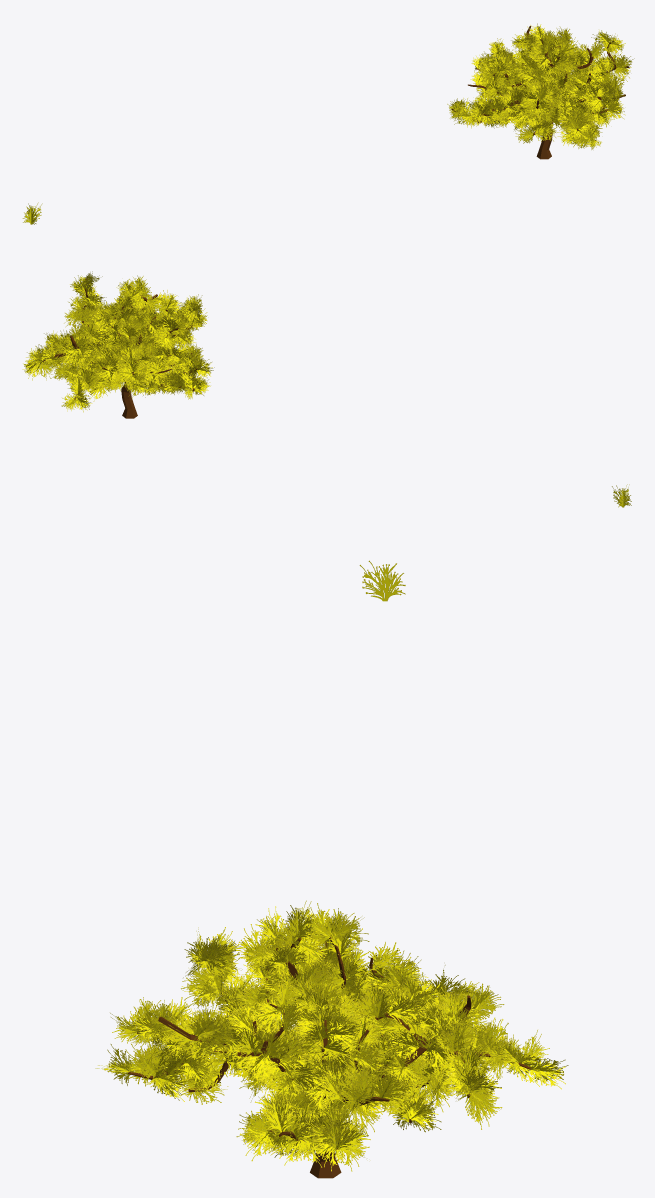
File: CornusMas.fbx
3 views of the same model, one above another, from view 1: azimuth 30°, elevation 25°; view 2: azimuth 150°, elevation 25°; view 3: azimuth 270°, elevation 25° (orthographic). The views are drawn at different scales.
Parts seen in each view (by area): view 1: Cornus Mas Base; view 2: Cornus Mas Base; view 3: Cornus Mas Base, CornusMasLeave 2ndColor.001.
Boxes of the visible parts, <box> form: Cornus Mas Base: <box>451,26,629,159</box>; Cornus Mas Base: <box>42,278,196,418</box>; Cornus Mas Base: <box>128,937,531,1178</box>; CornusMasLeave 2ndColor.001: <box>359,560,405,601</box>.
Size of the model in its own units: 3060 by 672 by 1072.
